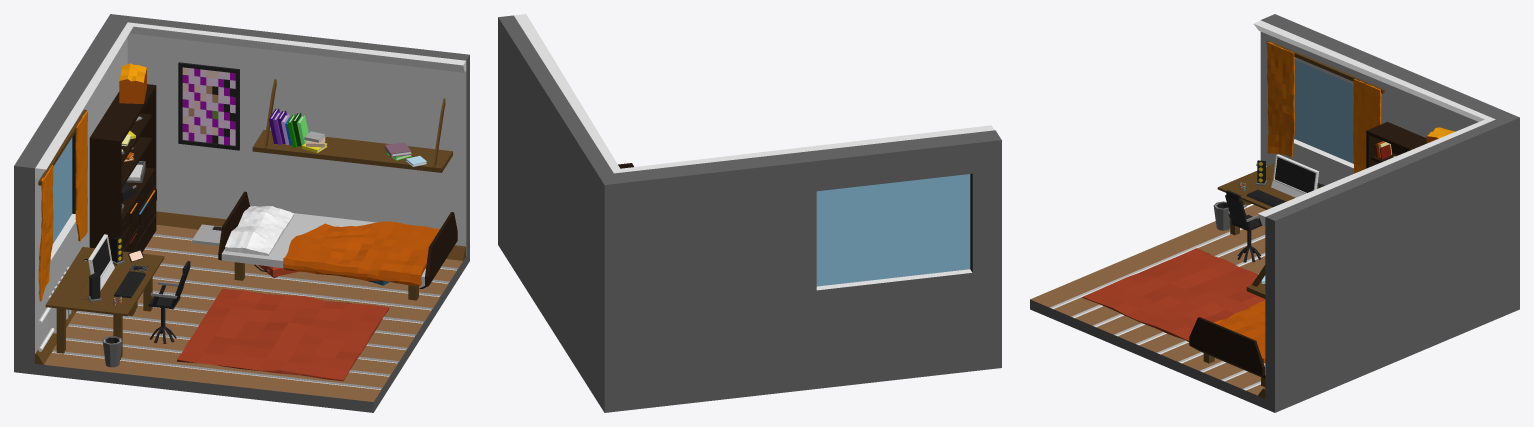
File: low_poly_living_room1.glb
The picture shows the model from 3 angles, left to right: view 1: azimuth 30°, elevation 25°; view 2: azimuth 150°, elevation 25°; view 3: azimuth 270°, elevation 25°; orthographic projection. The views are drawn at different scales.
Visible parts, largest first — view 1: Plane; view 2: Plane; view 3: Plane.
Part boxes in pixels (box(x1,y1,x2,y2)): Plane: box(14, 14, 469, 412); Plane: box(498, 14, 1001, 412); Plane: box(1030, 14, 1519, 412).
Size of the model in its own units: 56.57 by 24.46 by 56.57.
1 material, 1 textured.
